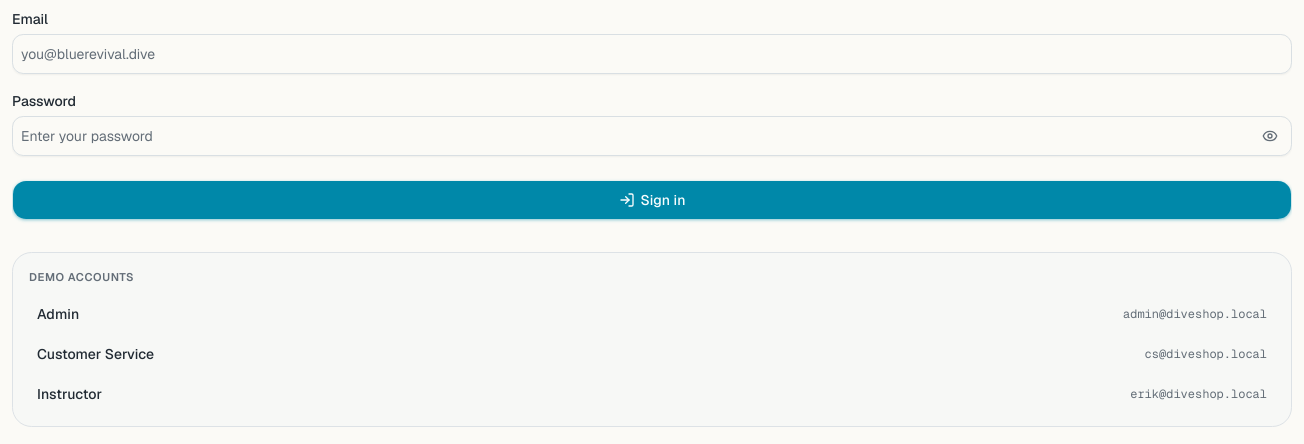
it: signs in as the Admin demo account without exposing its password
Step 1. Type "manually-entered-password" into the password field labelled "Password" → (652, 136), box top-left (12, 116), bottom-right (1292, 156)
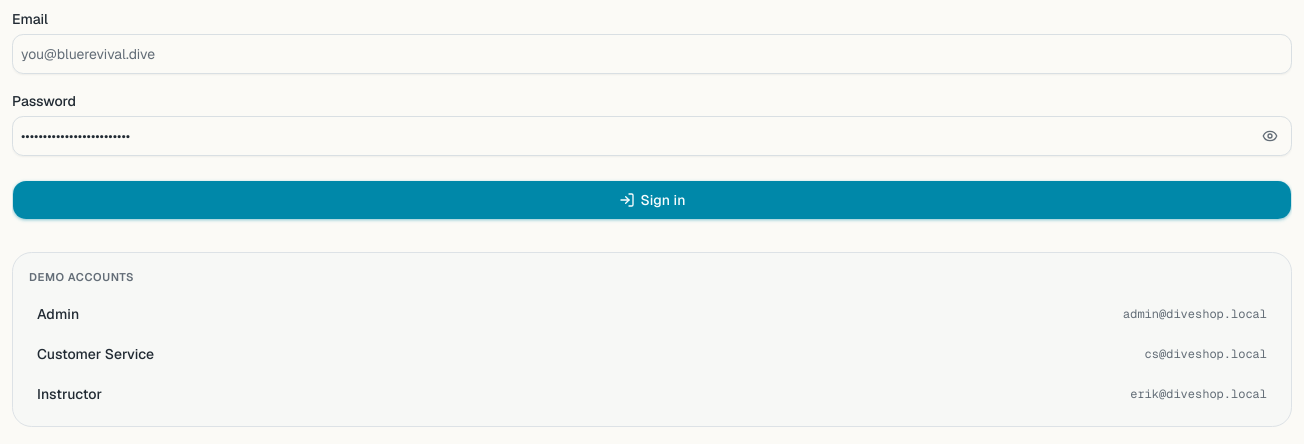
Step 2. Click the button "Admin admin@diveshop.local" → (58, 314), box top-left (29, 298), bottom-right (1275, 330)
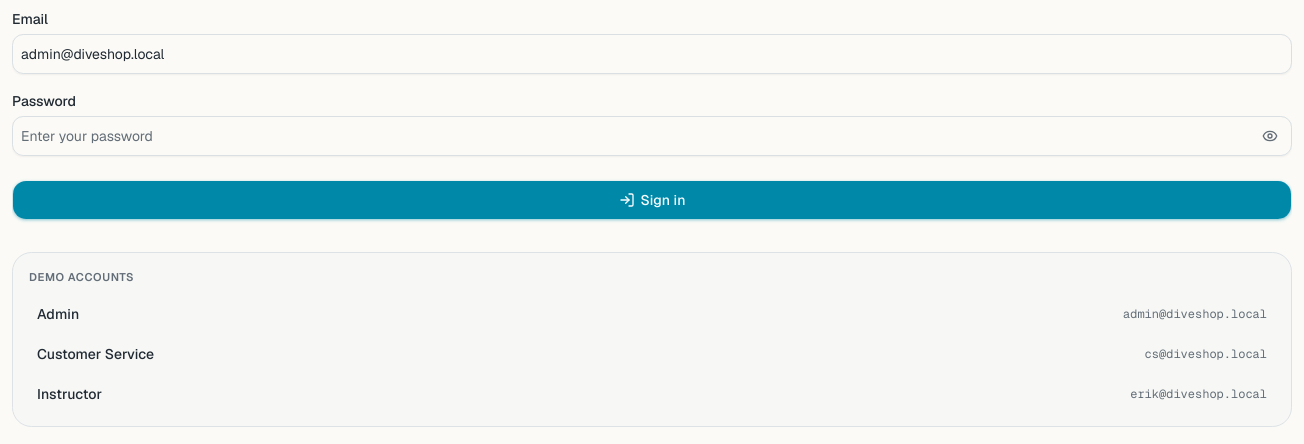
Result: the field labelled "Email" holds "admin@diveshop.local" at top-left (12, 34), bottom-right (1292, 74)
Result: the password field labelled "Password" is empty at top-left (12, 116), bottom-right (1292, 156)
